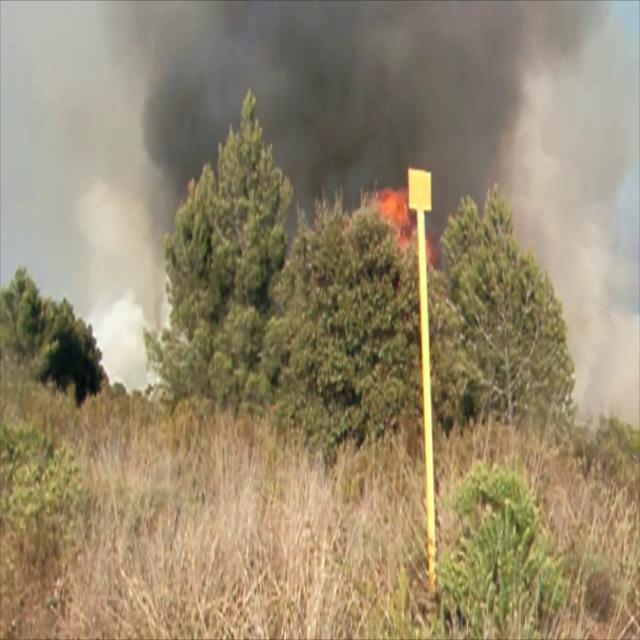Fire: (359, 174, 422, 240)
Smoke: (49, 0, 636, 248)
